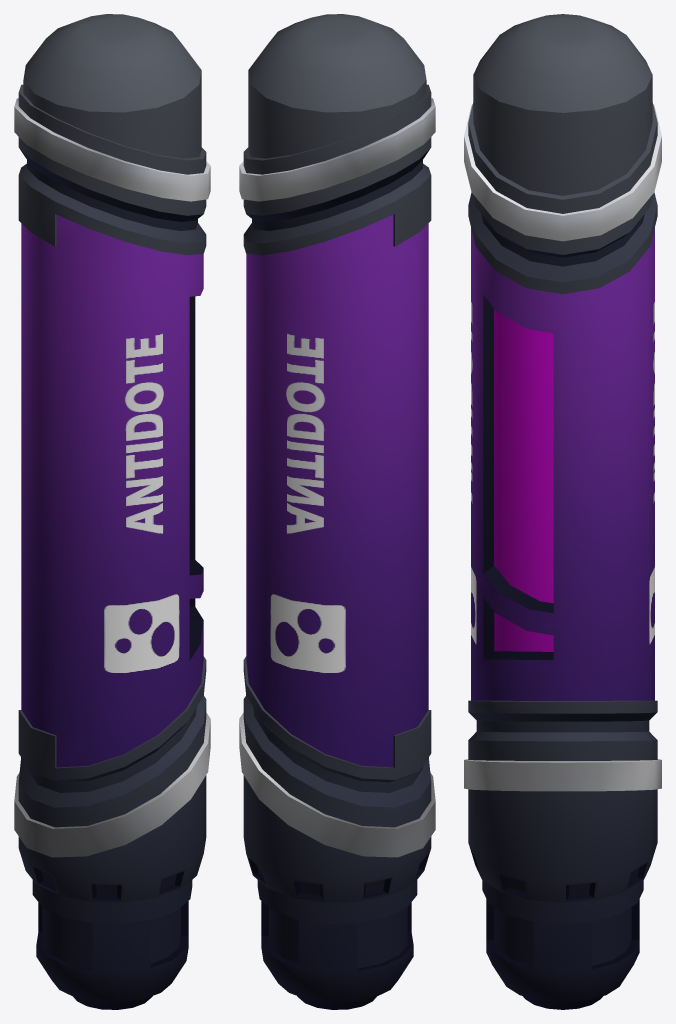
File: Antidote.fbx
3 renders of one model, left to right at view 1: azimuth 30°, elevation 25°; view 2: azimuth 150°, elevation 25°; view 3: azimuth 270°, elevation 25°, orthographic.
Visible parts, largest first — view 1: ANTIDOTE; view 2: ANTIDOTE; view 3: ANTIDOTE.
Part boxes in pixels (x1=…): ANTIDOTE: x1=14, y1=14, x2=210, y2=1009; ANTIDOTE: x1=239, y1=14, x2=435, y2=1009; ANTIDOTE: x1=464, y1=14, x2=661, y2=1009.
Bounding box in the file's own units: 205 × 1103 × 205.
